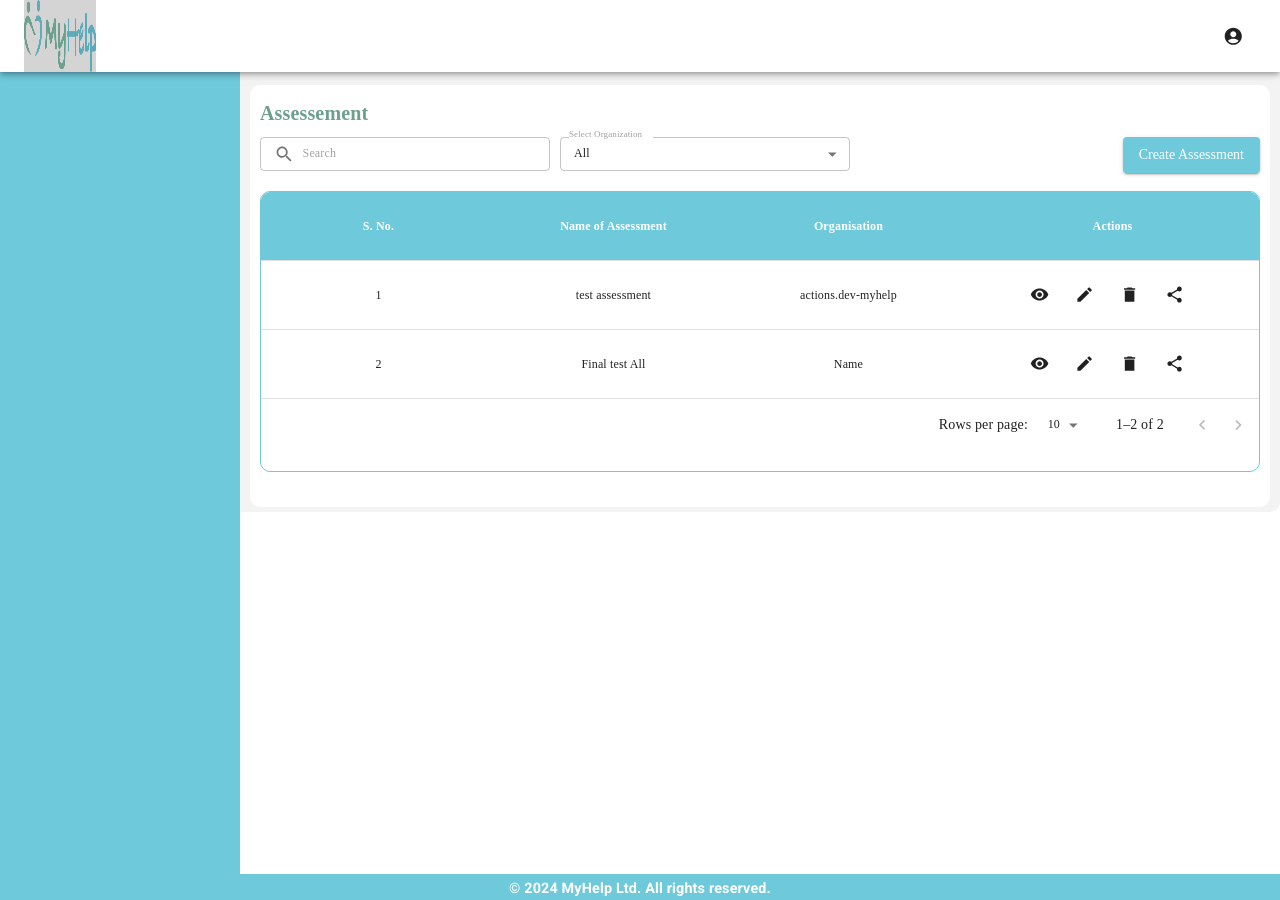
Test: Admin Assessment list › Update assessment
This screenshot has width=1280, height=900.
Click the button with test id "iconButton_edit_5fb6dc4d-402c-4934-bd27-bdca0dfa0d6d" at point(1085, 295), box [1068,277,1102,313]
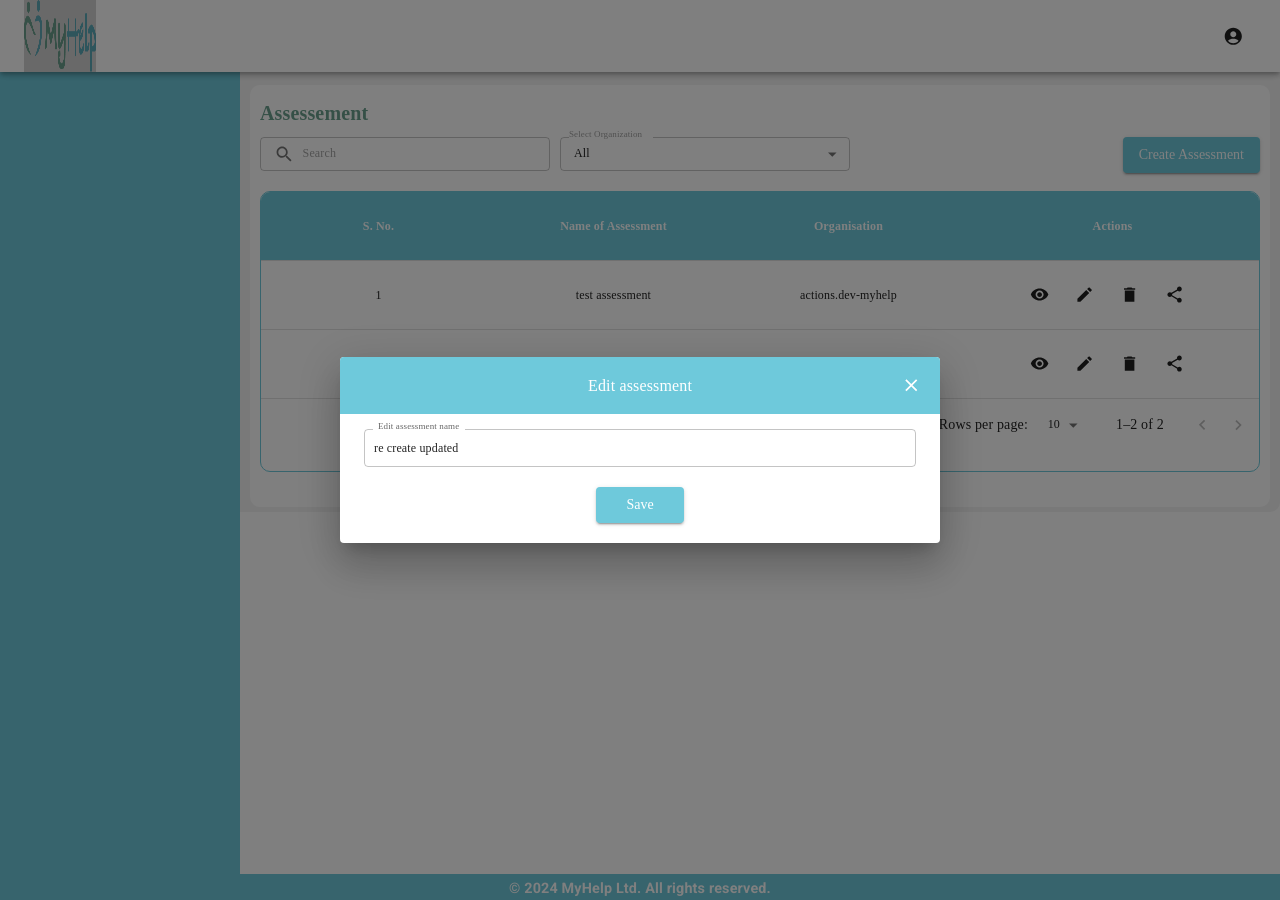
Replace the text in the field with test id "patient_firstname" with "Update the name and submit" at point(640, 448), box [364,429,916,467]
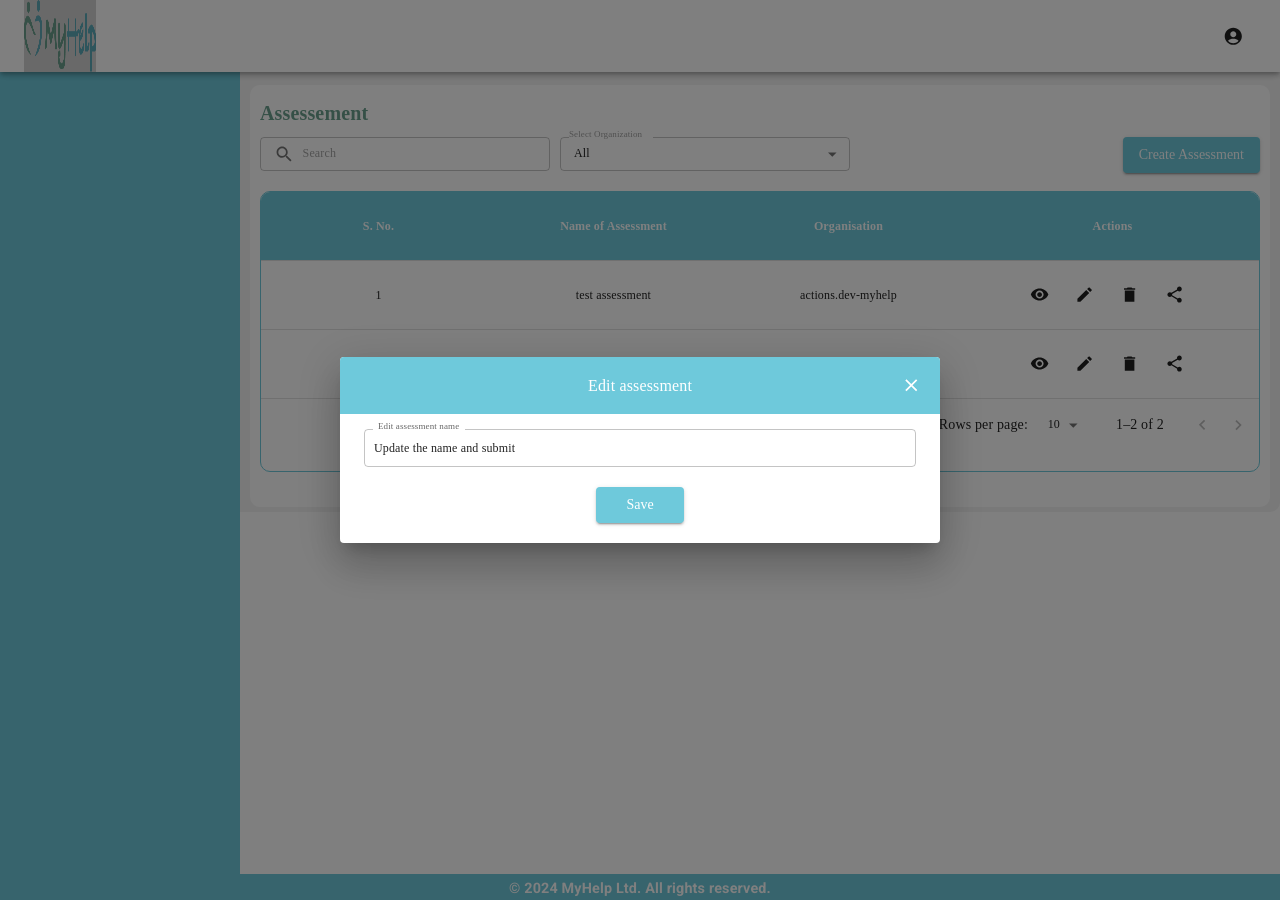
Click the button with test id "addSubmitForm" at point(640, 505), box [596,487,684,523]
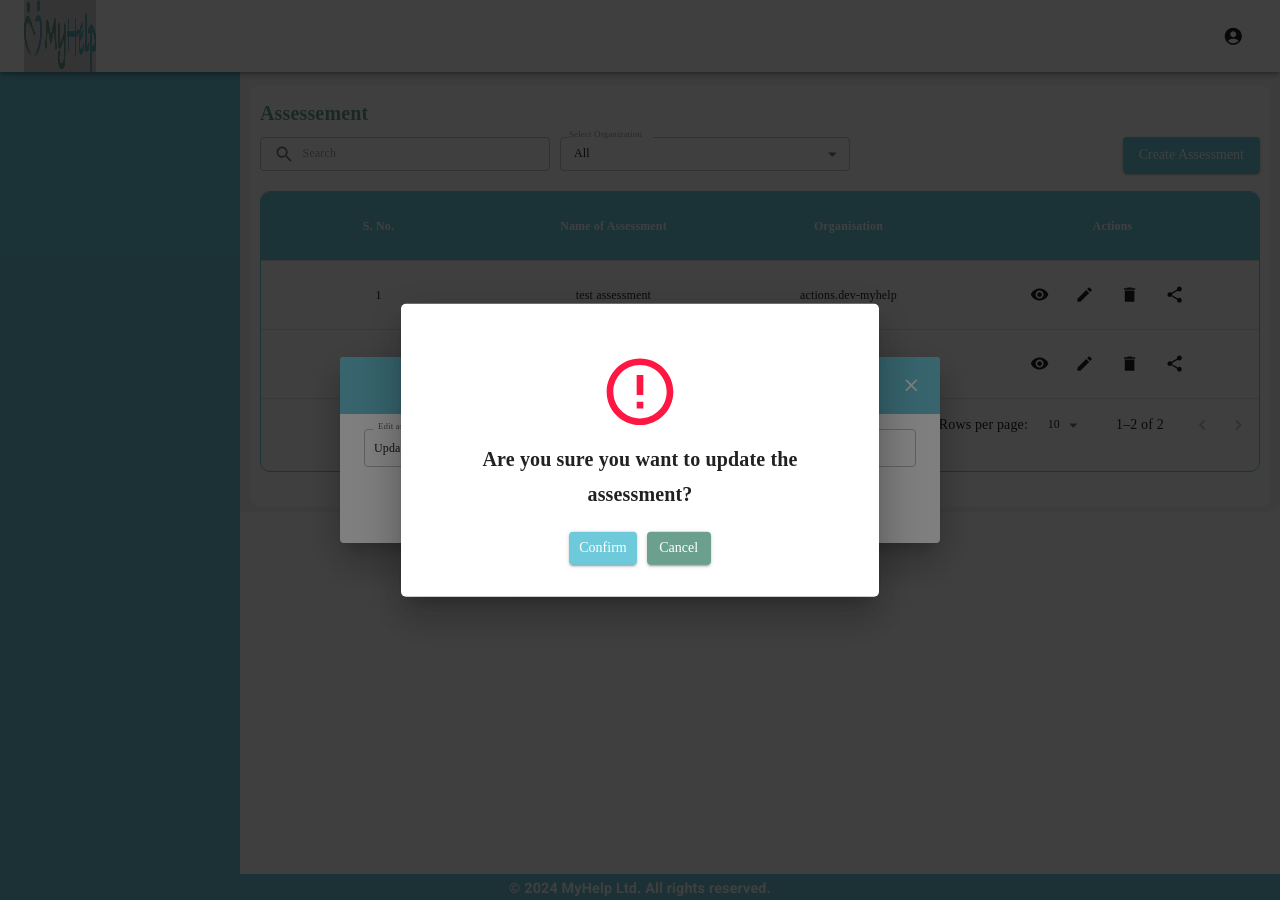
Expected: the heading "Are you sure you want to update the assessment?" is shown, [482,448,798,505]
Click the button with test id "confirmButton" at point(603, 548), box [569,532,637,564]
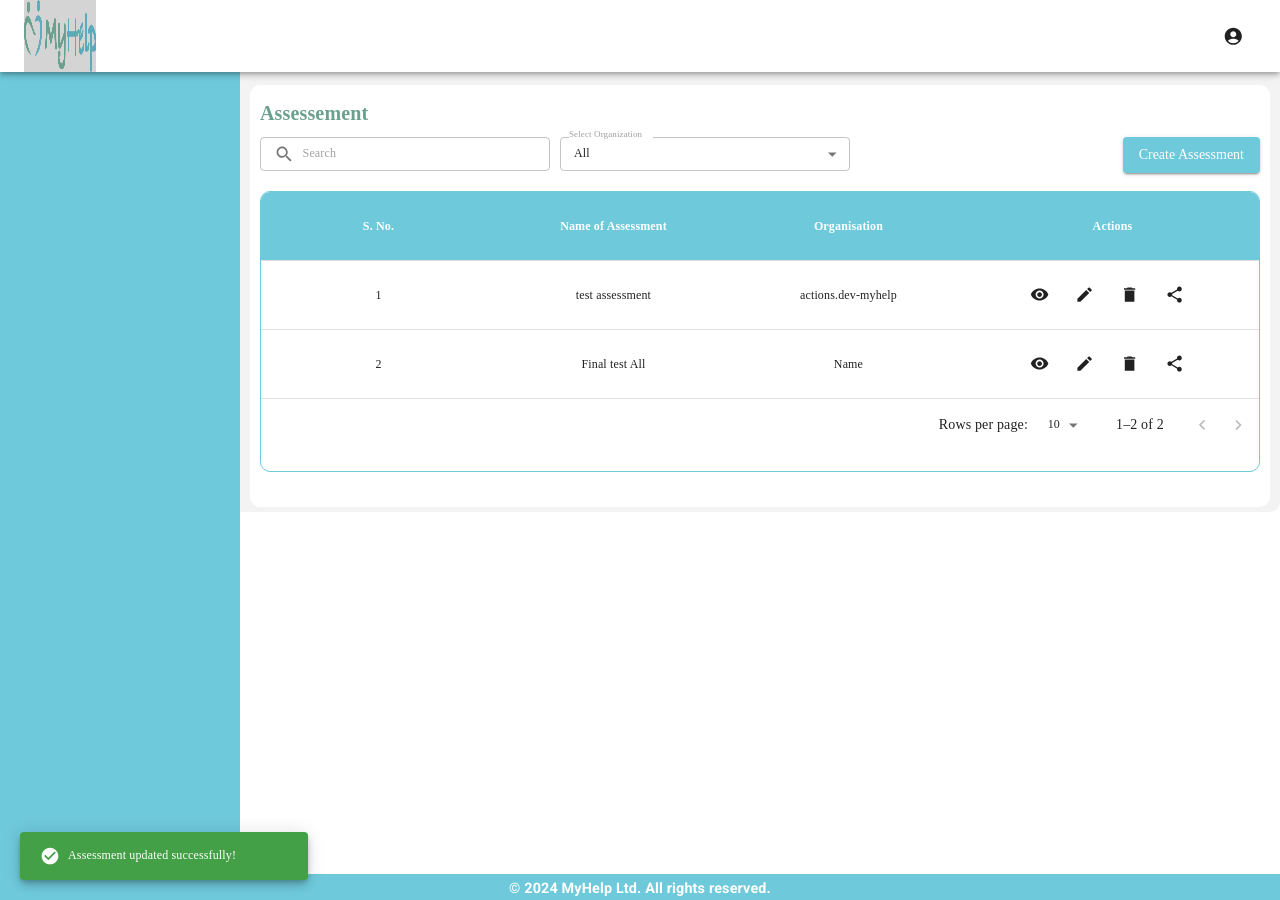
Expected: the text "Assessment updated successfully!" is shown, [40,846,236,866]
